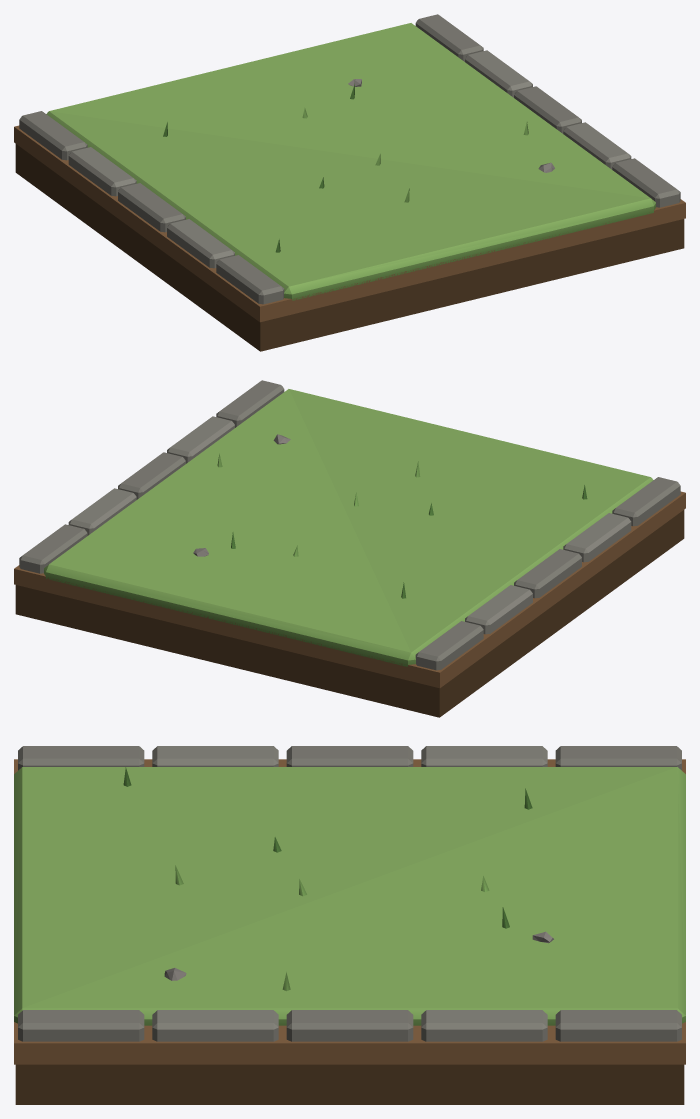
The model's file is grass-median-tile-01.glb.
3 views of the same model, one above another, from view 1: azimuth 30°, elevation 25°; view 2: azimuth 150°, elevation 25°; view 3: azimuth 270°, elevation 25° (orthographic). The views are drawn at different scales.
Visible parts, largest first — view 1: grass_median_tile_01; view 2: grass_median_tile_01; view 3: grass_median_tile_01.
Boxes of the visible parts, x1,y1,x2,y2 form: grass_median_tile_01: (14, 14, 685, 351); grass_median_tile_01: (14, 380, 685, 717); grass_median_tile_01: (14, 746, 685, 1104).
Bounding box in the file's own units: 4 × 0.6448 × 4.
